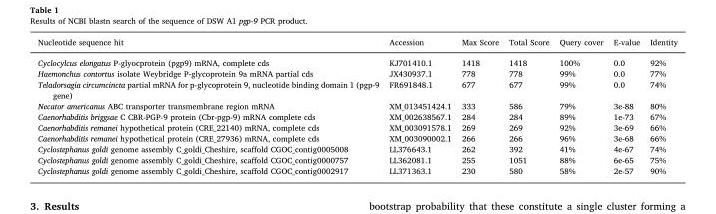table: (36, 36, 677, 175)
table column: (36, 36, 383, 175), (383, 36, 455, 175), (553, 36, 607, 175), (503, 36, 553, 175), (455, 36, 503, 175), (607, 36, 644, 175), (644, 36, 677, 175)
table column header: (36, 36, 677, 51)
table row: (36, 78, 677, 99), (36, 51, 677, 67), (36, 36, 677, 51), (36, 67, 677, 78), (36, 99, 677, 110), (36, 110, 677, 121), (36, 121, 677, 132), (36, 132, 677, 143), (36, 153, 677, 164), (36, 164, 677, 175), (36, 143, 677, 153)
